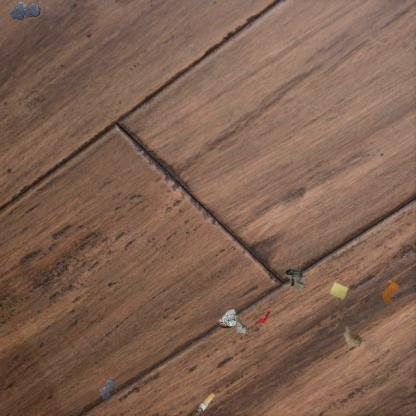dirty: (216, 308, 249, 336), (280, 266, 310, 292), (342, 324, 365, 349), (380, 279, 400, 307), (328, 280, 350, 302), (195, 391, 215, 415), (253, 309, 270, 327)
liquid: (8, 0, 41, 21), (99, 379, 115, 399)
